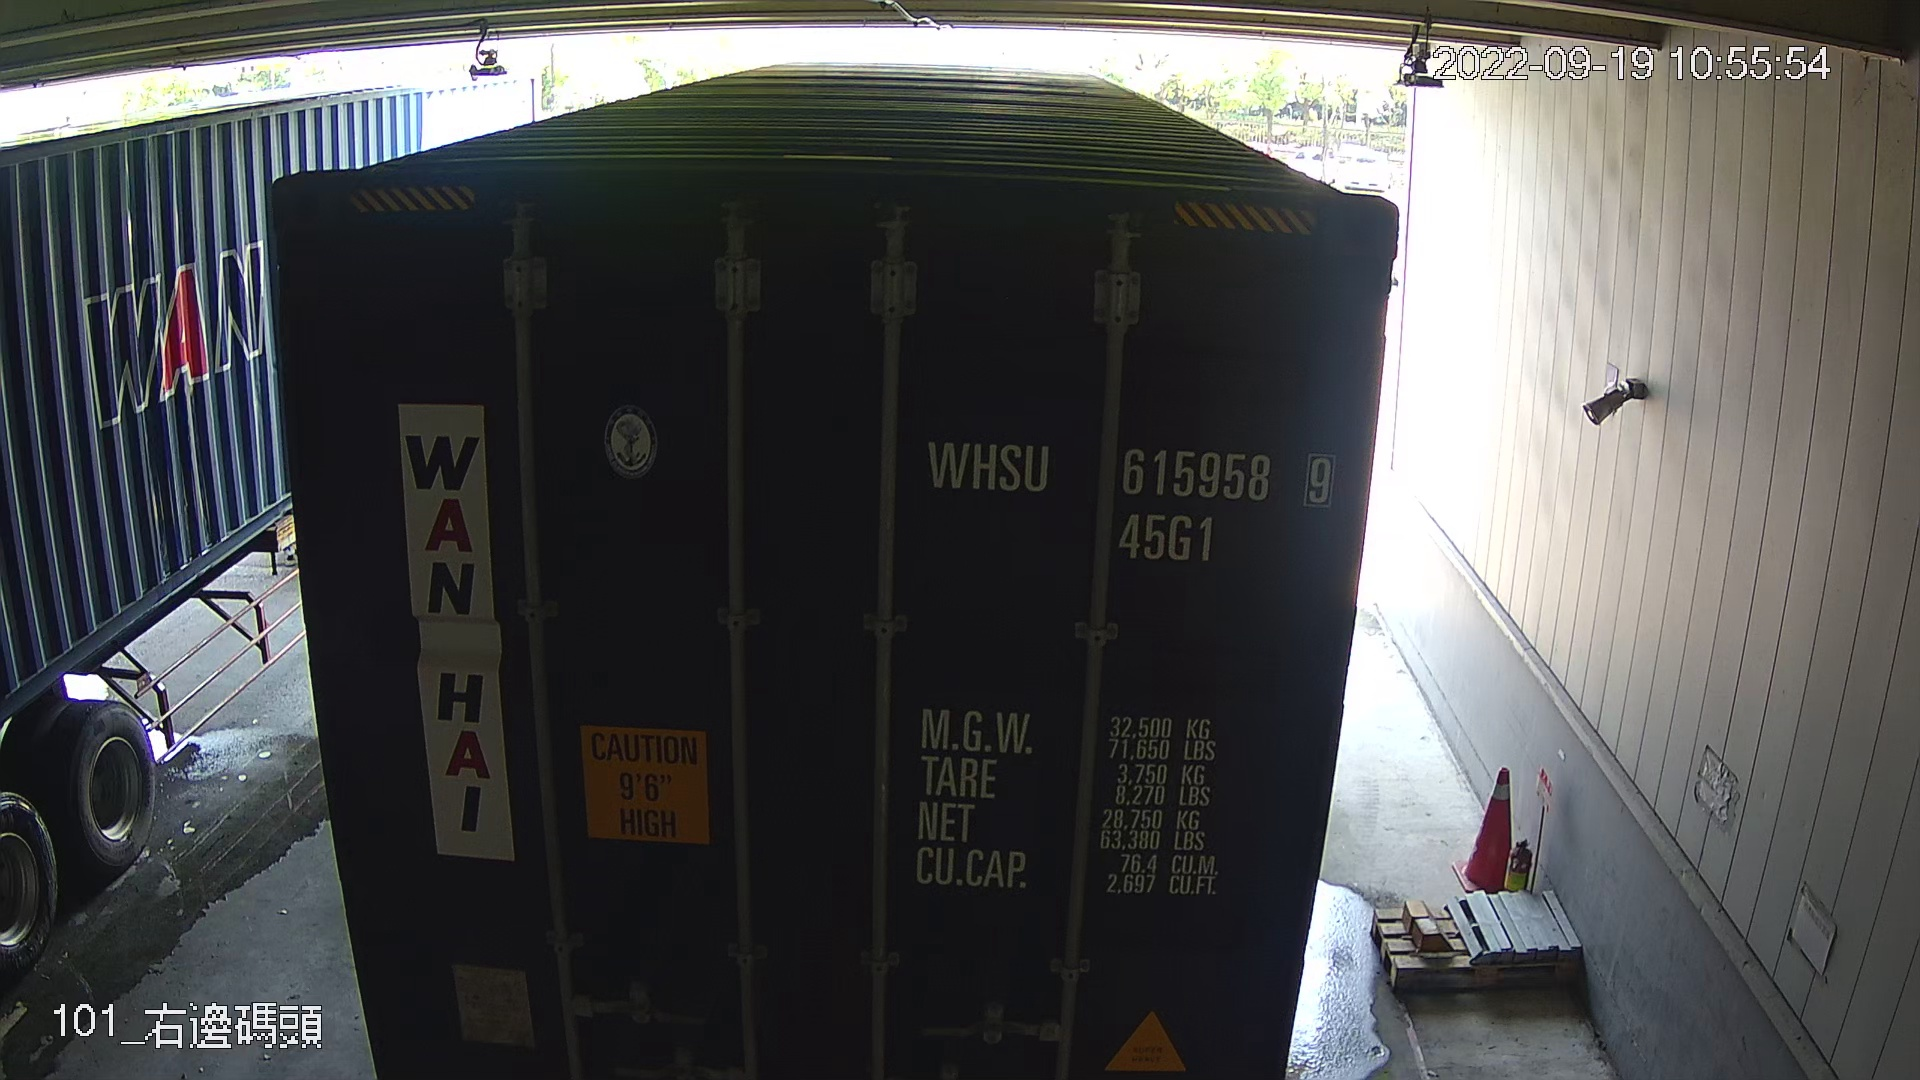container: (913, 419, 1344, 570)
